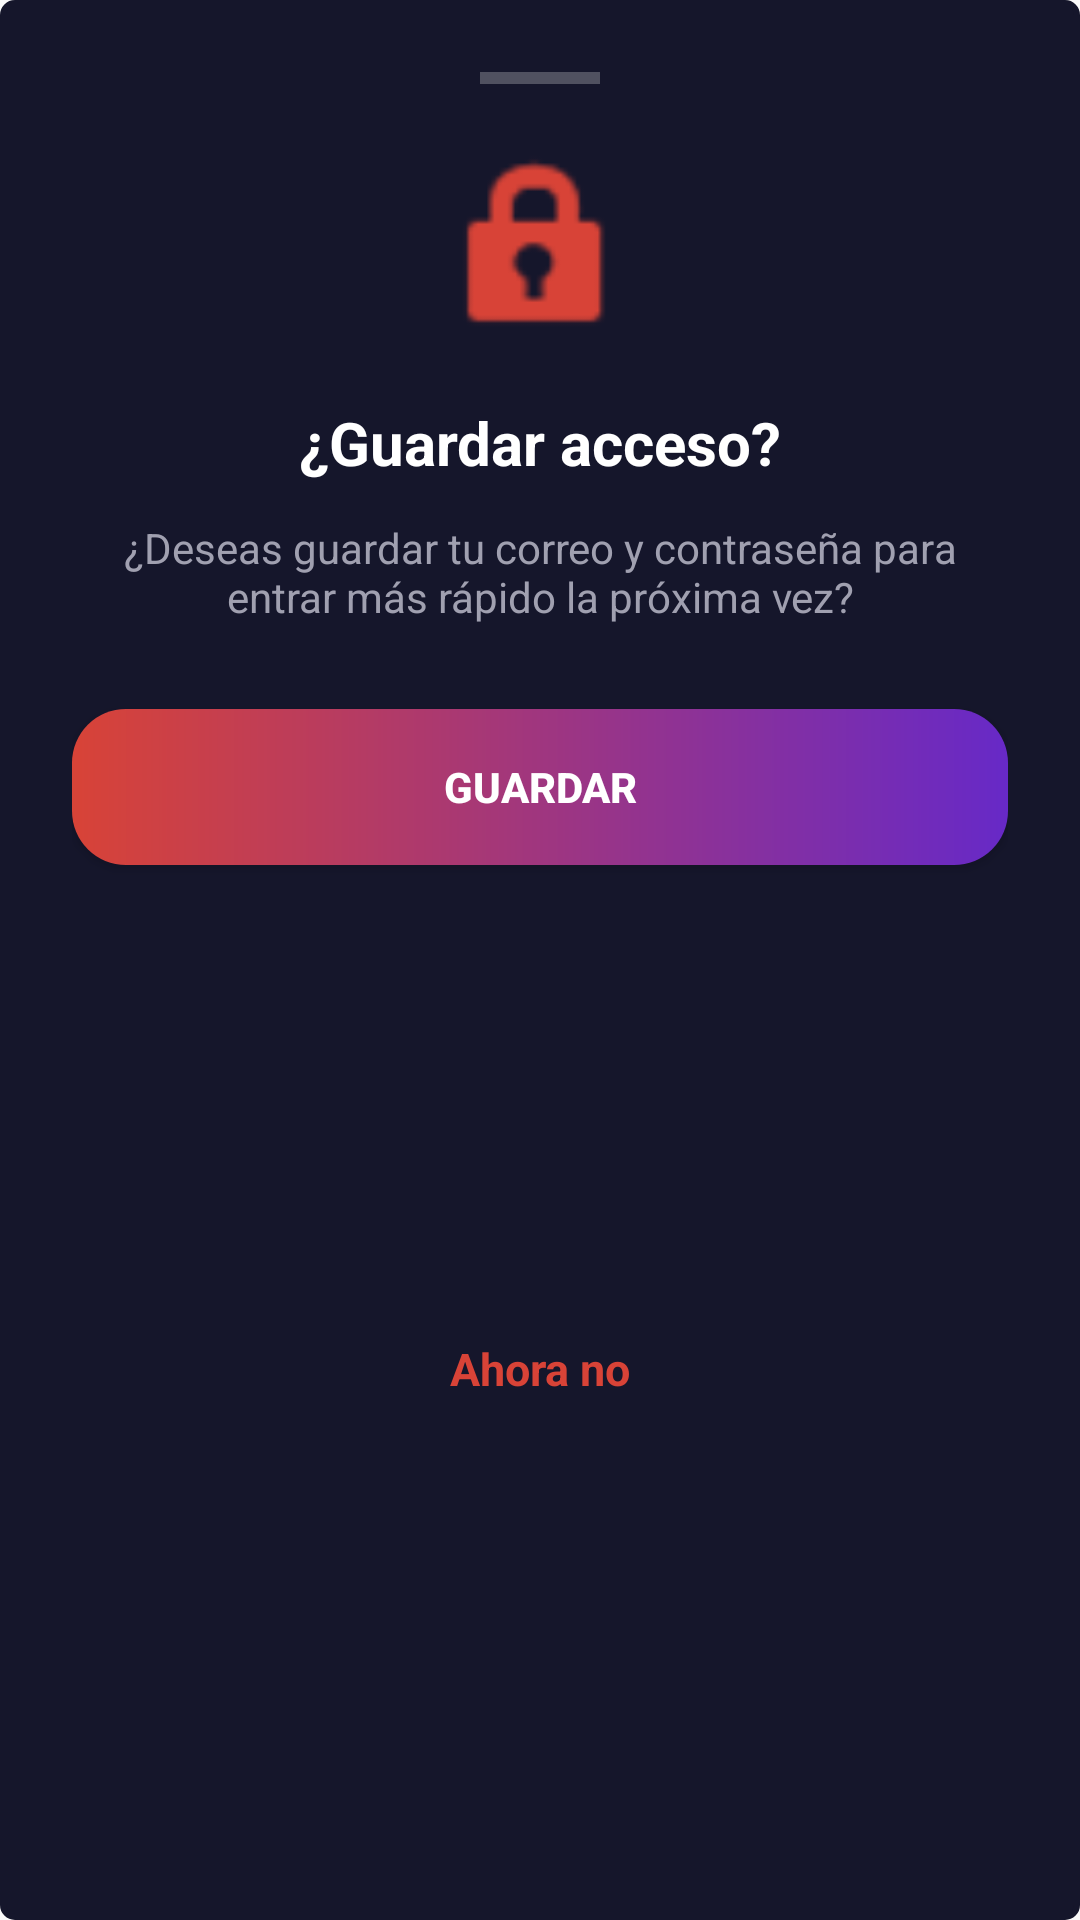

Named icons in this screenshot (1080 × 1920) and their centers, (x,y):
lock idle: (535,242)
